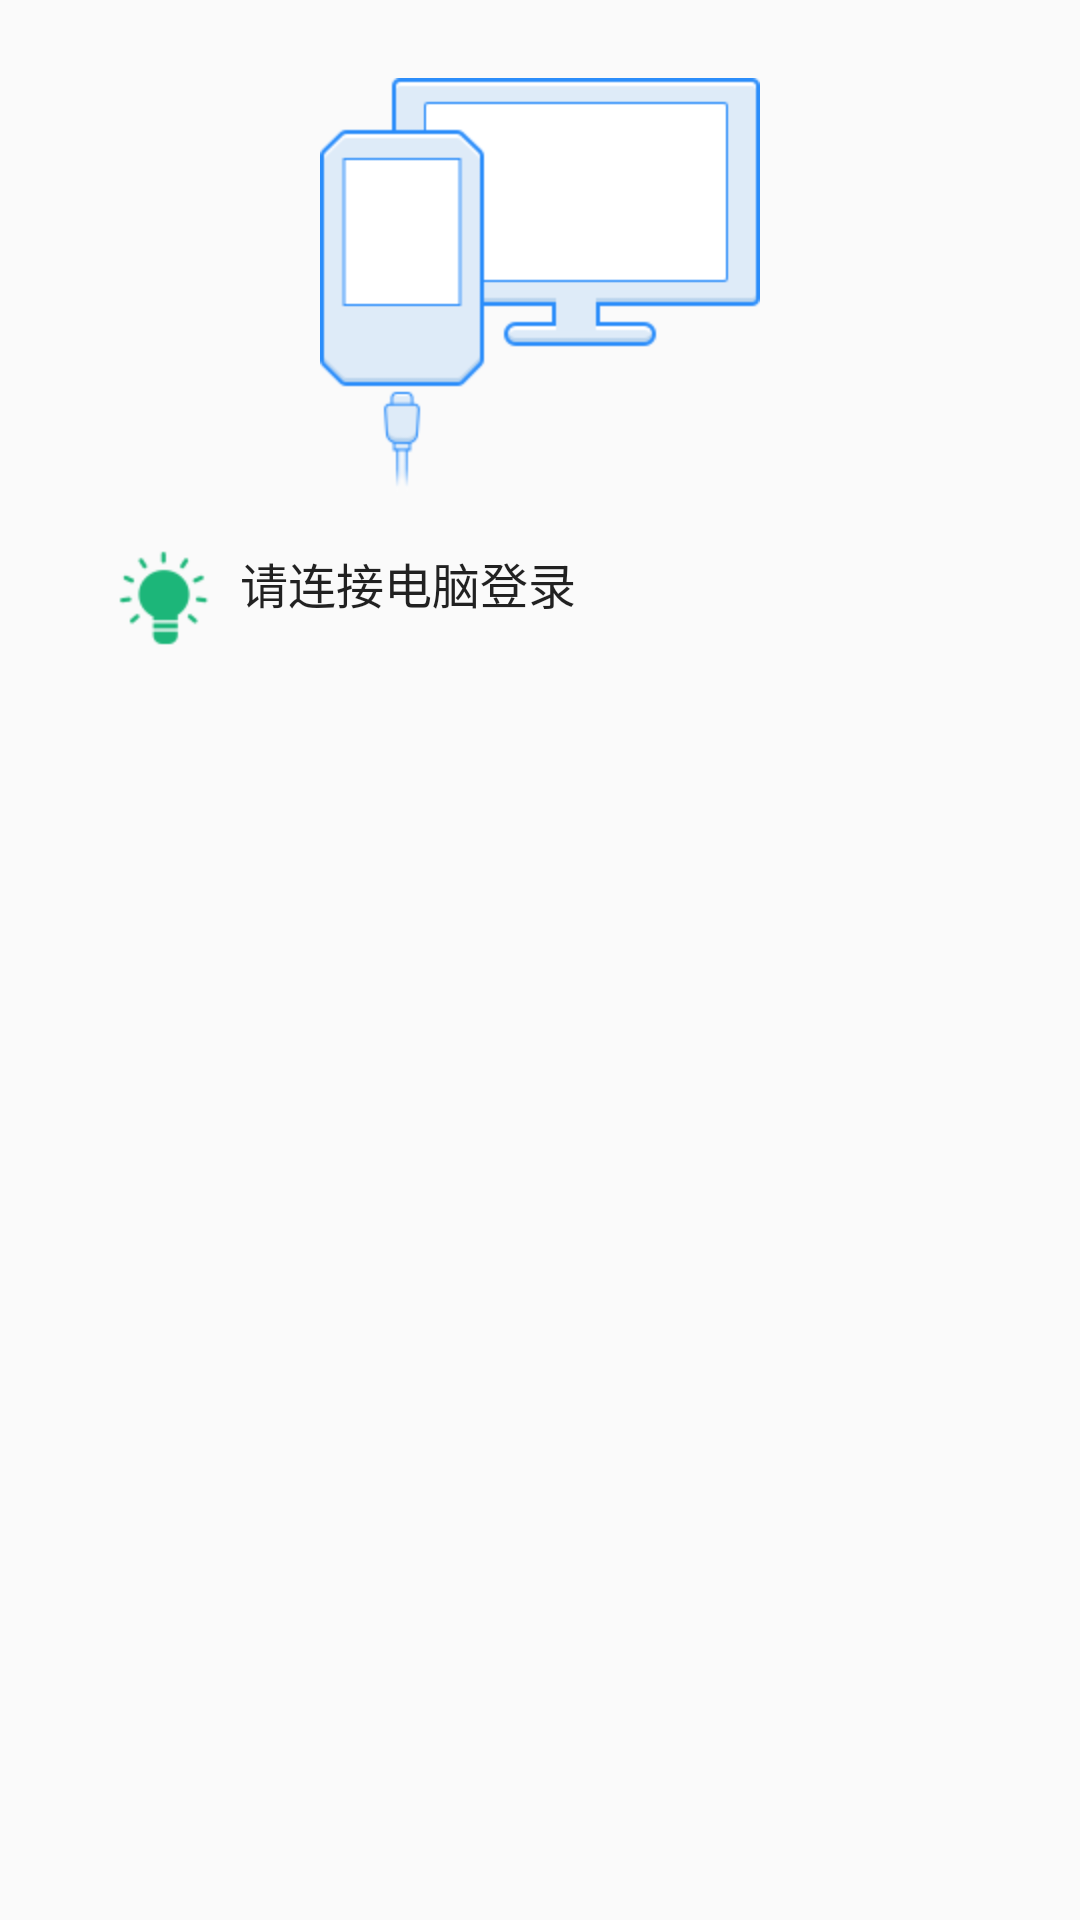

Locate icon controls on the screen. Image size 1080px x 1920px, boxes as (x1, y1, x2, y2).
conn pc tip: (119, 551, 208, 645)
